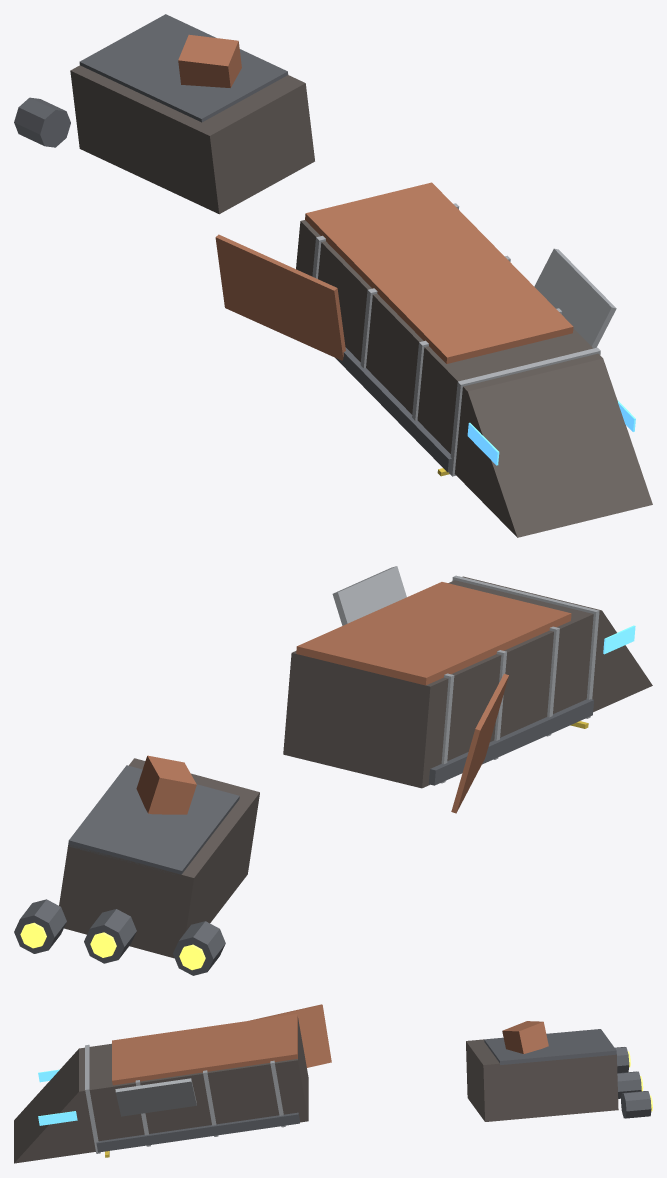
Rendered from Freighter.glb.
The picture shows the model from 3 angles, top to bottom: view 1: azimuth 30°, elevation 25°; view 2: azimuth 150°, elevation 25°; view 3: azimuth 270°, elevation 25°; orthographic projection. The views are drawn at different scales.
Parts seen in each view (by area): view 1: Freighter; view 2: Freighter; view 3: Freighter.
Part boxes in pixels (x1,y1,x2,y2): Freighter: (14,14,652,537); Freighter: (14,566,652,975); Freighter: (14,1004,652,1163).
Size of the model in its own units: 21.6 by 15.95 by 74.96.
